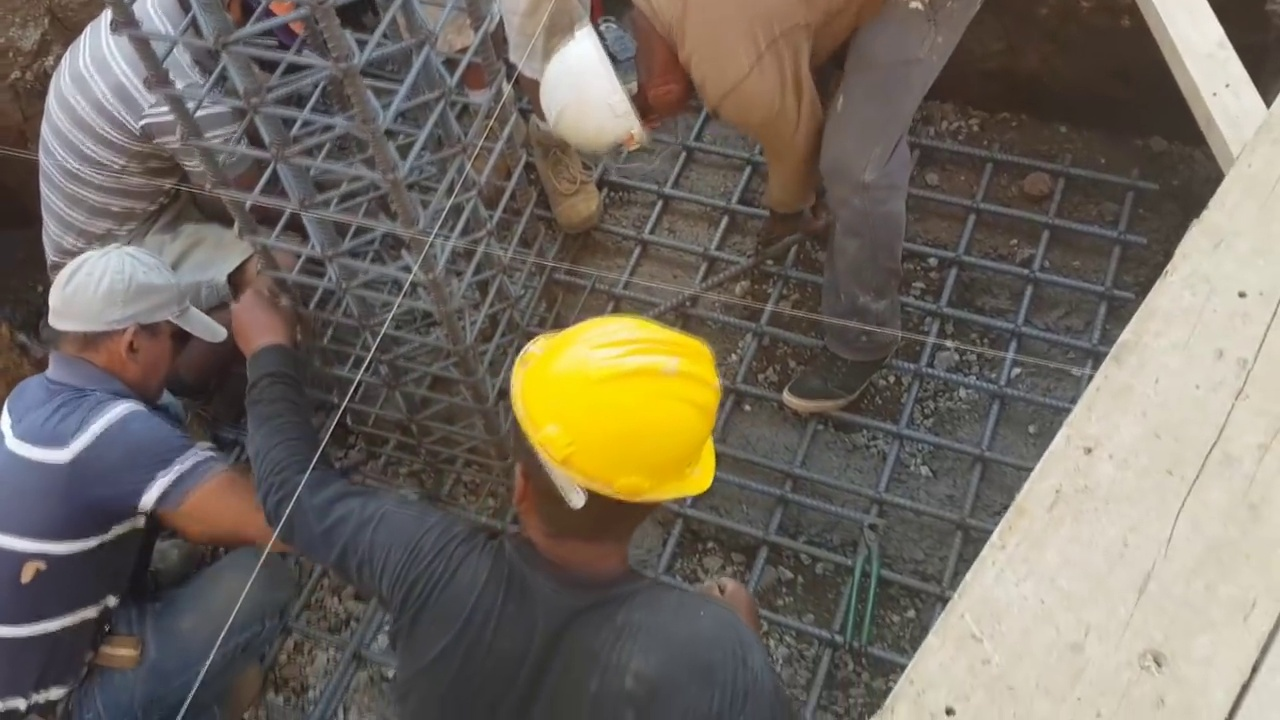helmet: (495, 323, 724, 512), (547, 23, 648, 162)
helmet-off: (37, 242, 213, 409)
helmet-on: (494, 318, 722, 577), (544, 4, 715, 159)
person: (227, 278, 799, 720), (543, 0, 990, 412), (0, 239, 290, 718), (36, 0, 325, 286), (409, 0, 607, 232)
